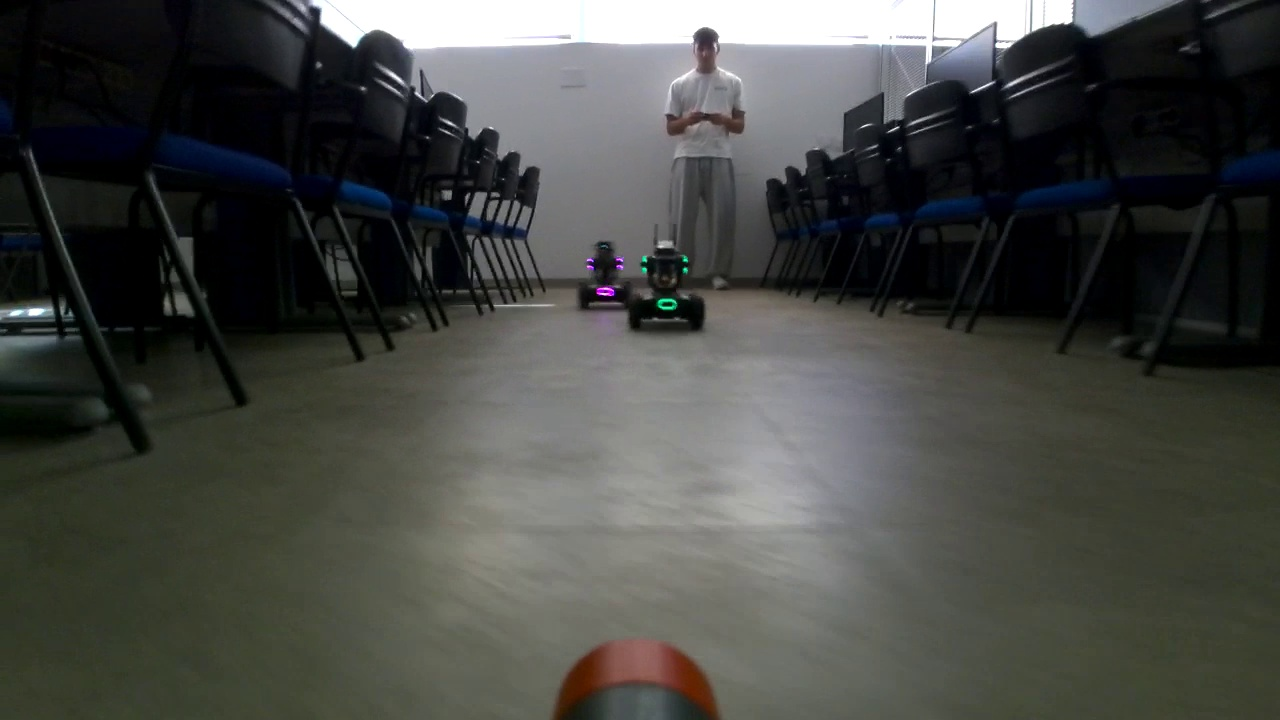robot: (628, 224, 708, 335), (574, 240, 633, 310)
